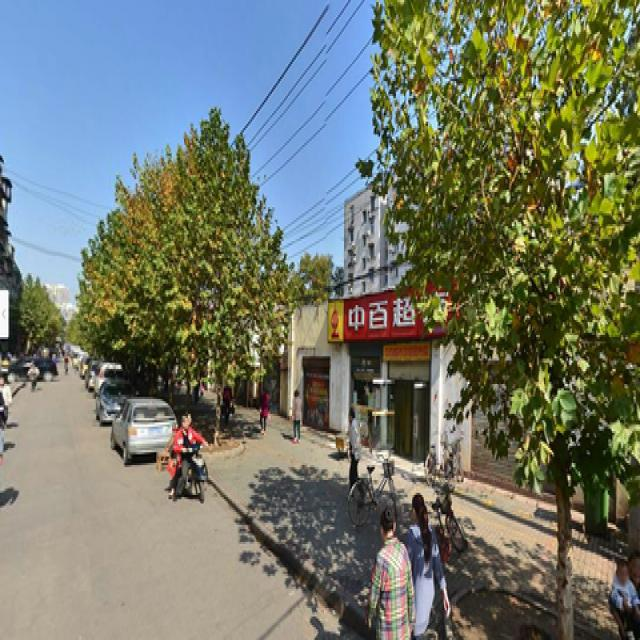meta: (413, 13, 624, 612), (186, 164, 246, 442)
